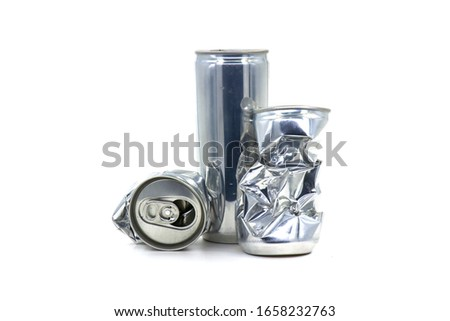can: (234, 93, 332, 260), (193, 45, 271, 244), (109, 167, 210, 252)
